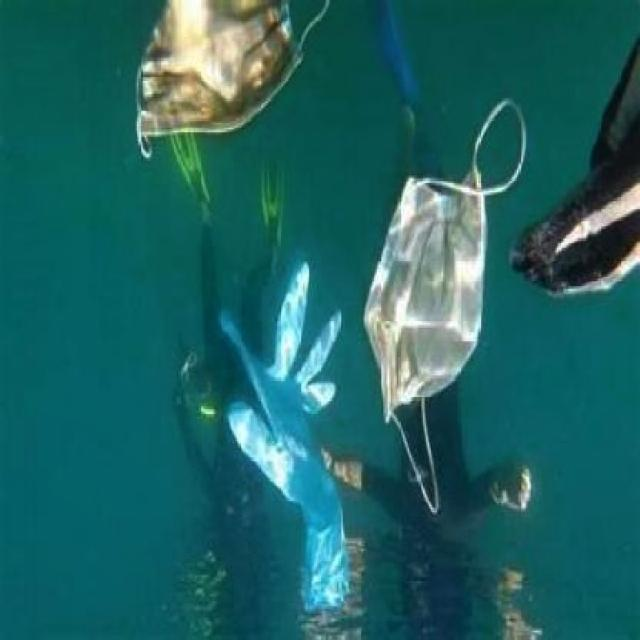Mask: (364, 91, 525, 520), (133, 0, 330, 174)
glove: (208, 260, 352, 618)
